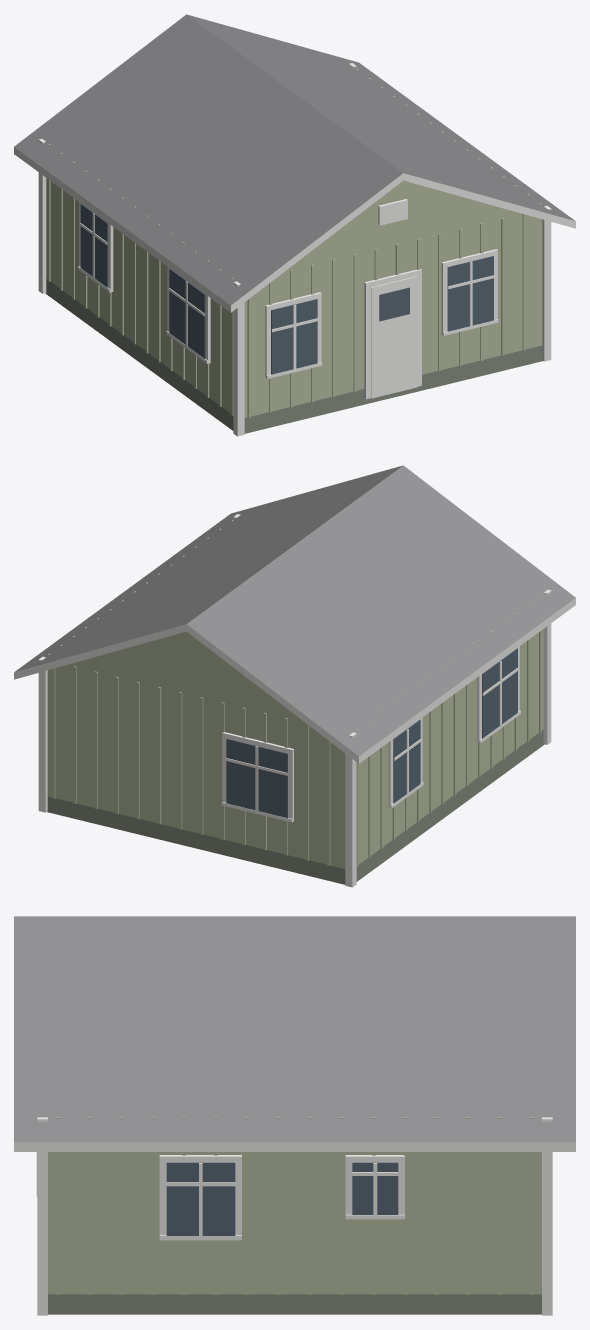
Rendered from fig-sage.glb.
3 renders of one model, top to bottom at view 1: azimuth 30°, elevation 25°; view 2: azimuth 150°, elevation 25°; view 3: azimuth 270°, elevation 25°, orthographic. The views are drawn at different scales.
Visible parts, largest first — view 1: The Fig (sage); view 2: The Fig (sage); view 3: The Fig (sage).
Boxes of the visible parts, bbox=[...] form: The Fig (sage): bbox=[14, 14, 575, 436]; The Fig (sage): bbox=[14, 465, 575, 887]; The Fig (sage): bbox=[14, 916, 575, 1315].
Size of the model in its own units: 6.86 by 4.42 by 7.47.
